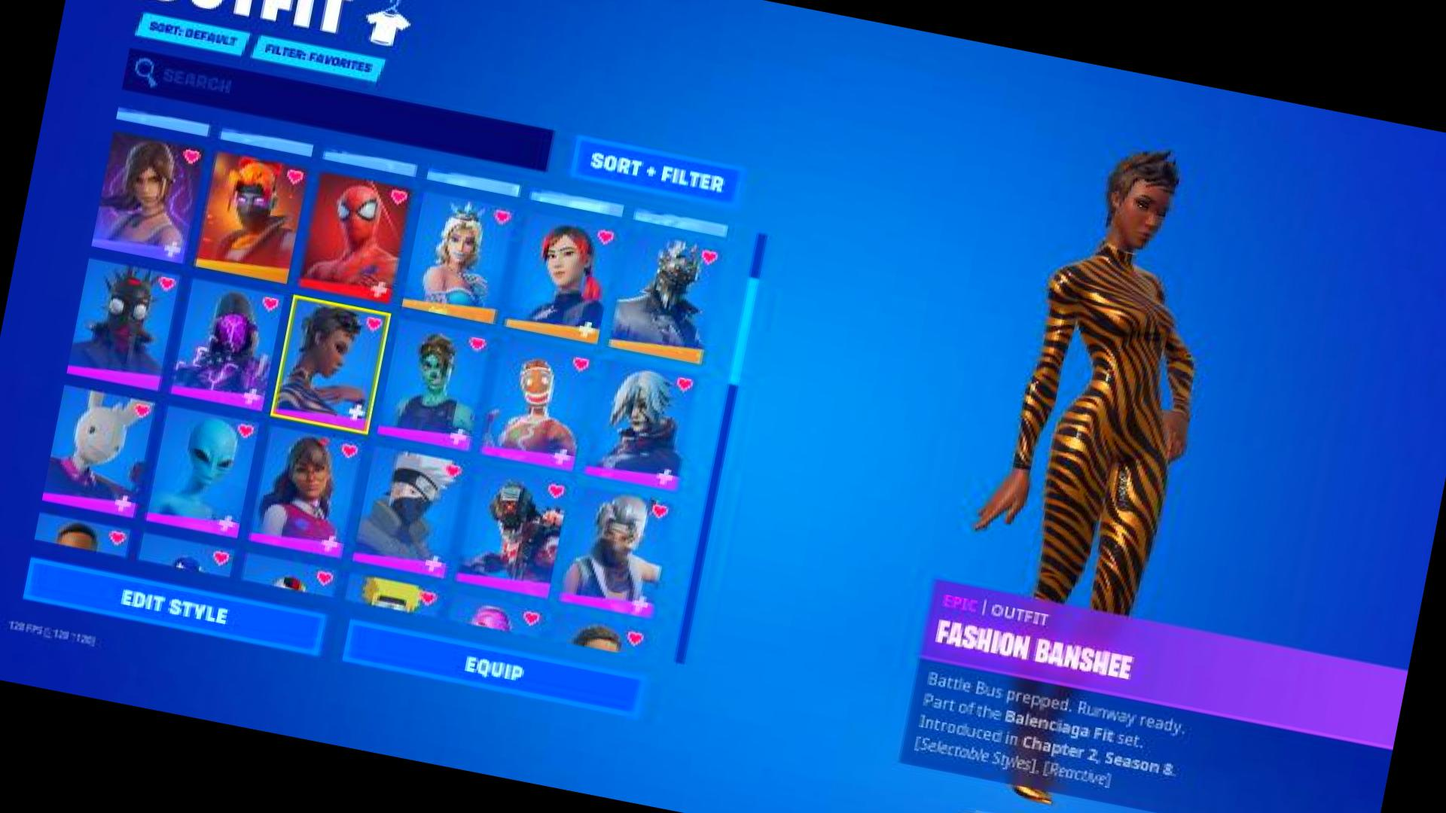player: (892, 122, 1345, 813)
